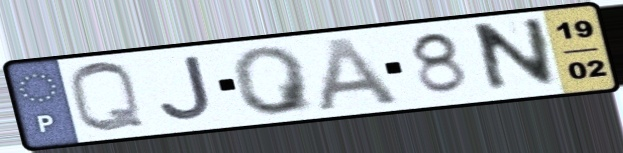8: (408, 30, 472, 97)
A: (314, 34, 406, 114)
J: (156, 53, 215, 123)
N: (474, 14, 561, 98)
Q: (227, 43, 321, 118), (64, 60, 151, 136)
